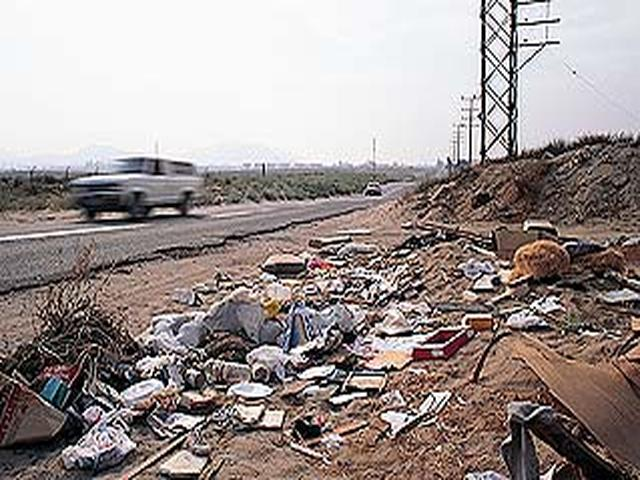garbage: (152, 323, 417, 417)
